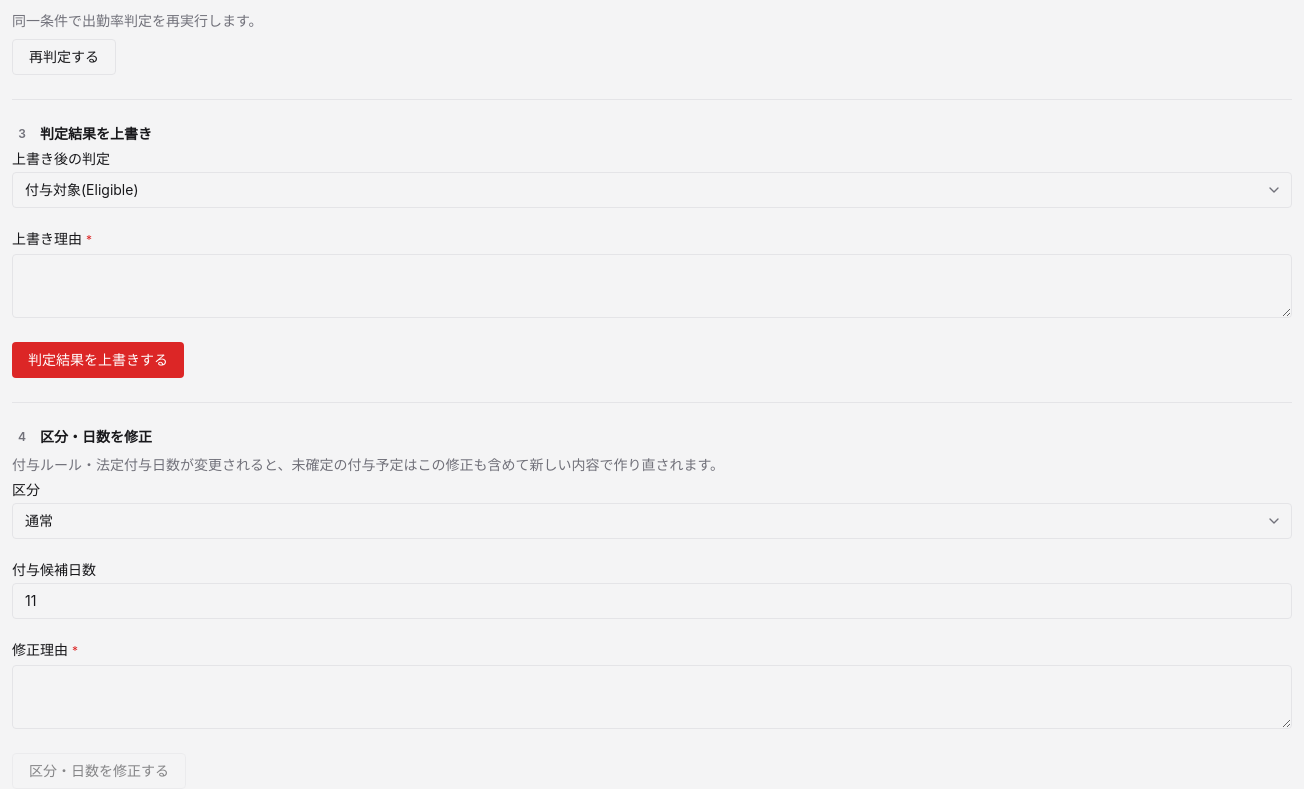
Test: PaidLeaveScheduleAssessmentPanel › 区分・日数を修正(step 4) › clears the edit dirty state after a successful edit
(page scrolled)
Step 1. Replace the text in the number field labelled "付与候補日数" with "10" → (652, 601), box [12,583,1292,619]
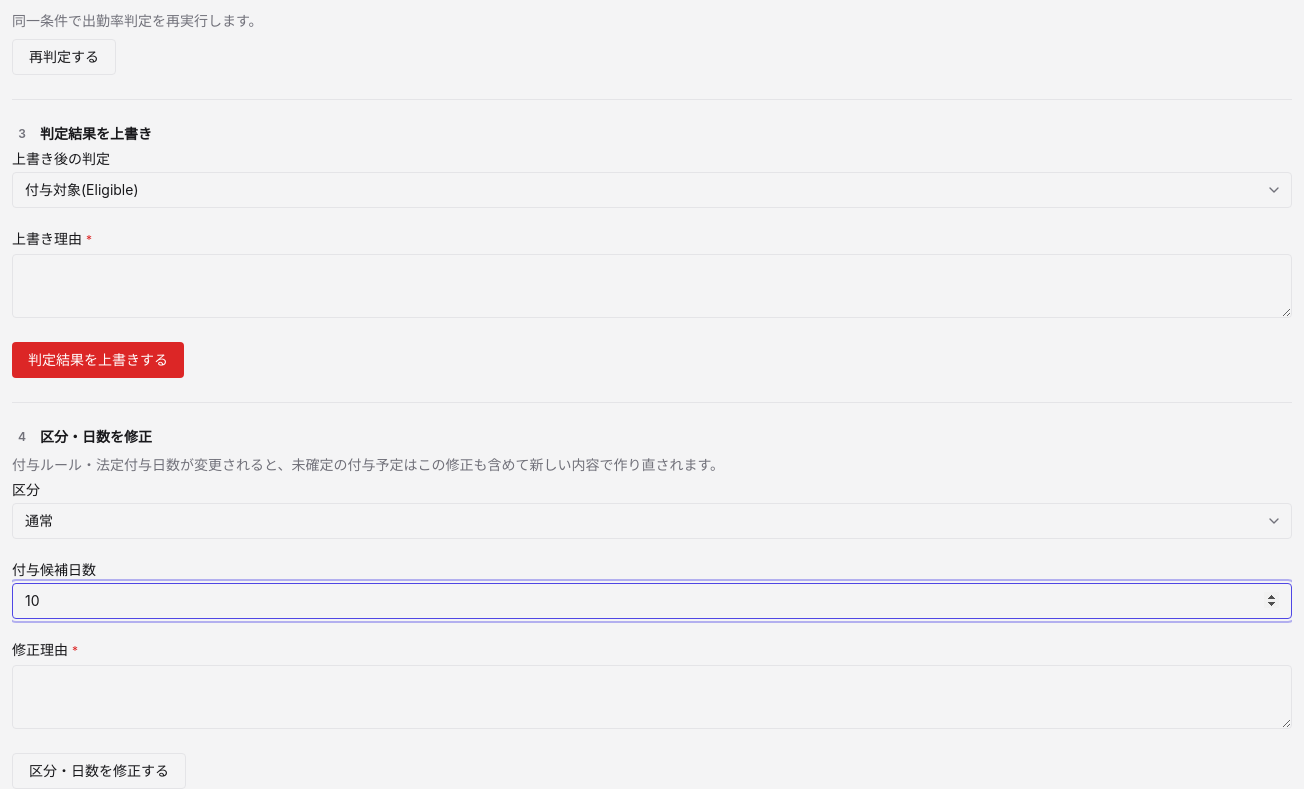
Step 2. Type "日数を補正" into the text box labelled "修正理由" → (652, 697), box [12,665,1292,729]
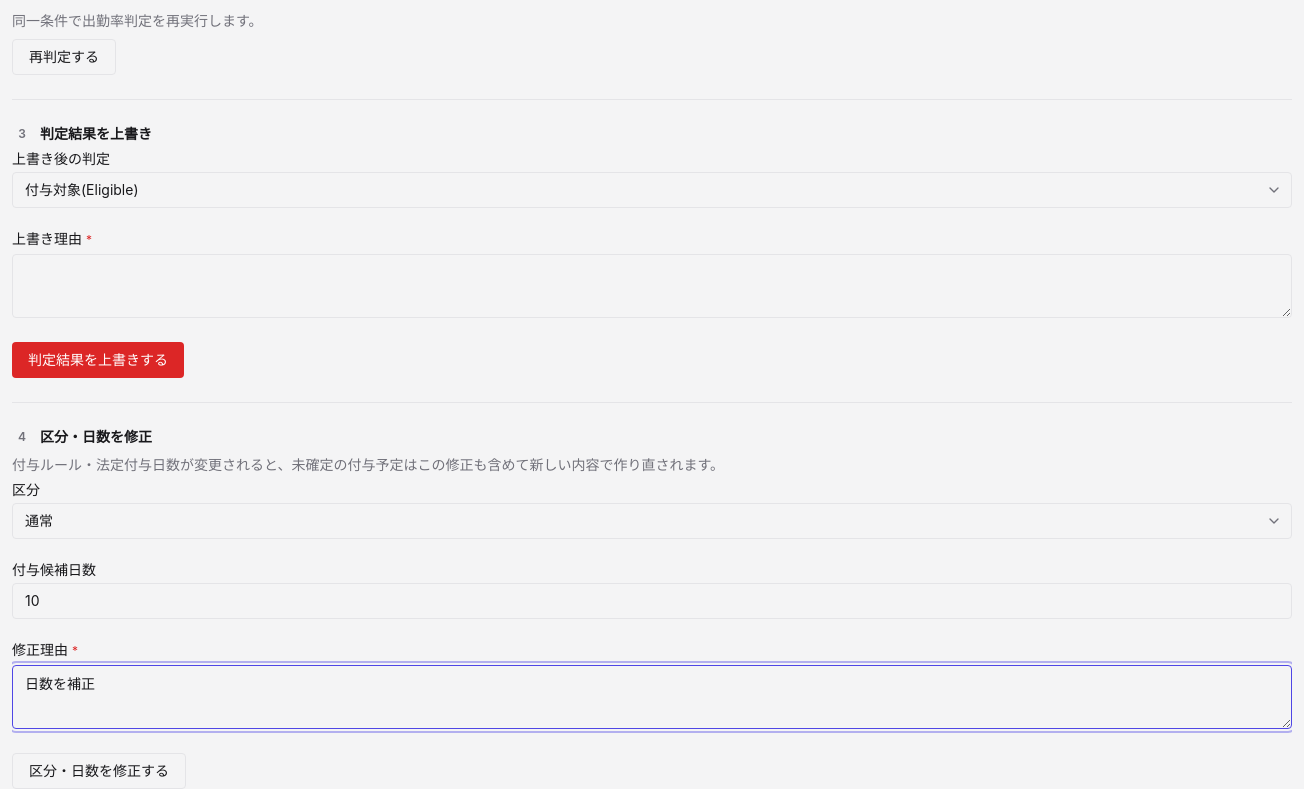
Step 3. Click the button "区分・日数を修正する" → (99, 771), box [12,753,186,788]
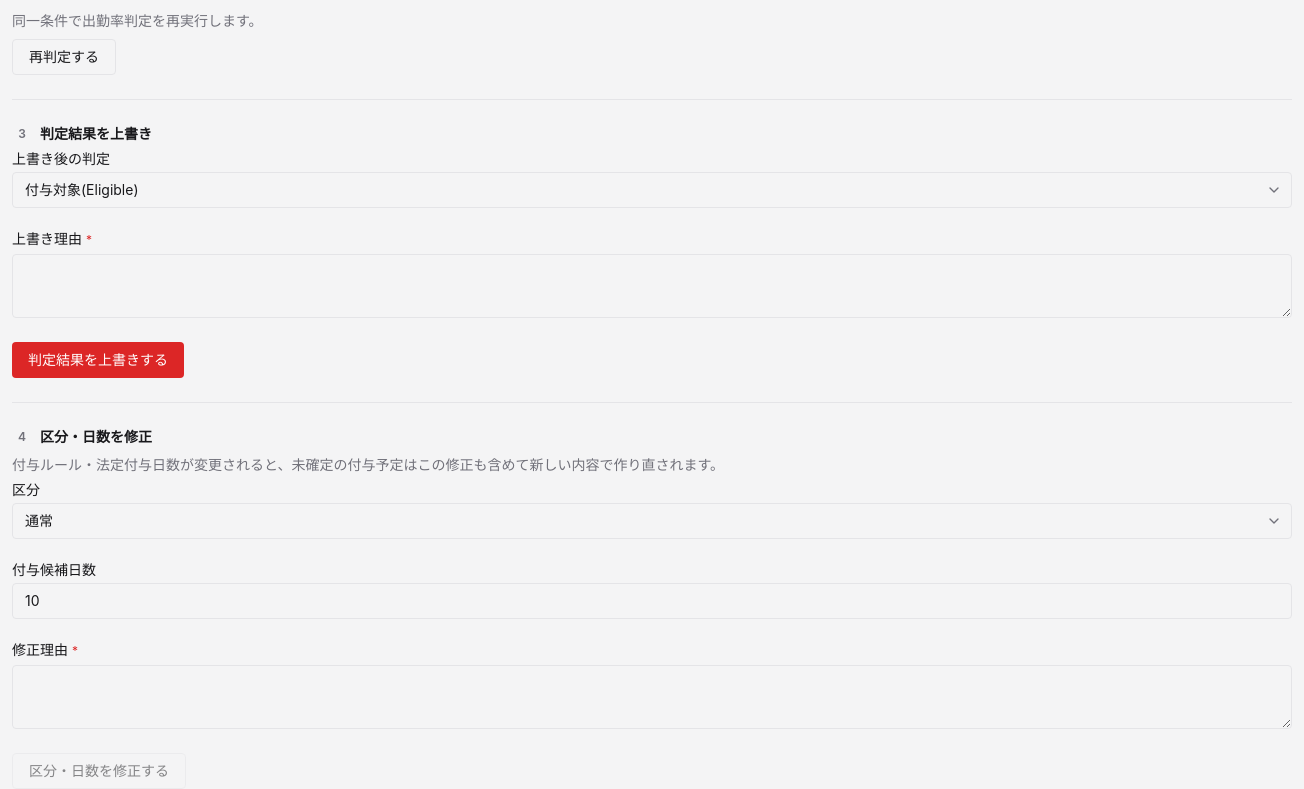
expect the text box labelled "修正理由" is empty: met, box [12,665,1292,729]
expect the button "区分・日数を修正する" is disabled: met, box [12,753,186,788]
